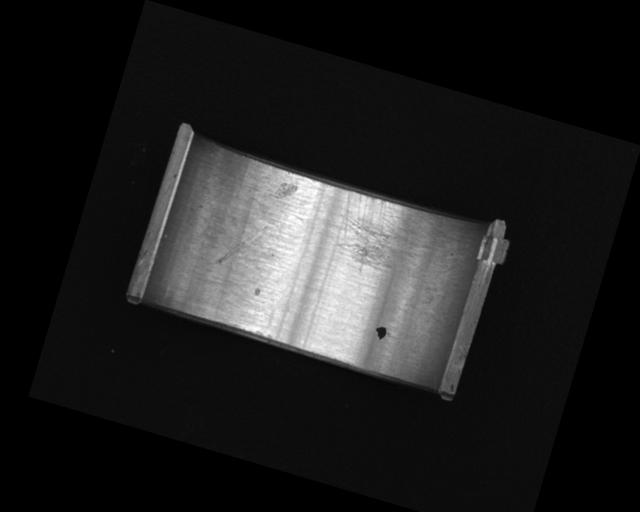blot: (372, 324, 388, 342)
bruise: (271, 178, 299, 204), (252, 286, 262, 298)
nick: (216, 214, 266, 273)
scratch: (327, 189, 458, 295)
